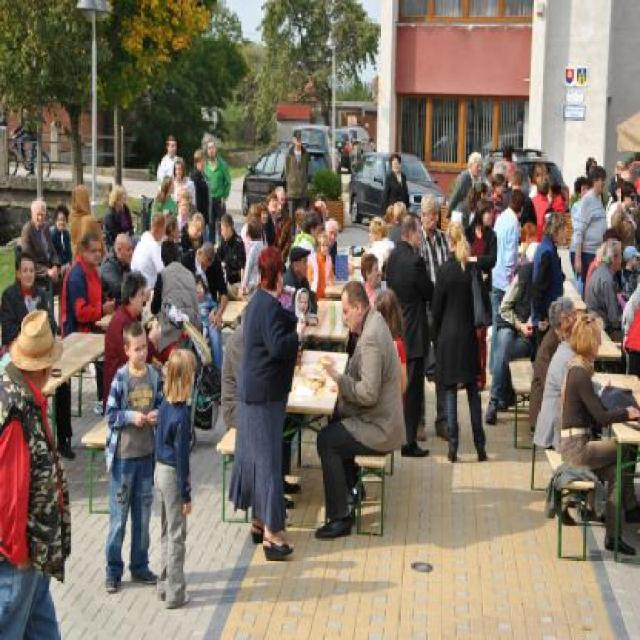obstacle: (0, 136, 342, 639), (314, 157, 640, 548), (92, 308, 152, 606), (12, 96, 38, 172)
